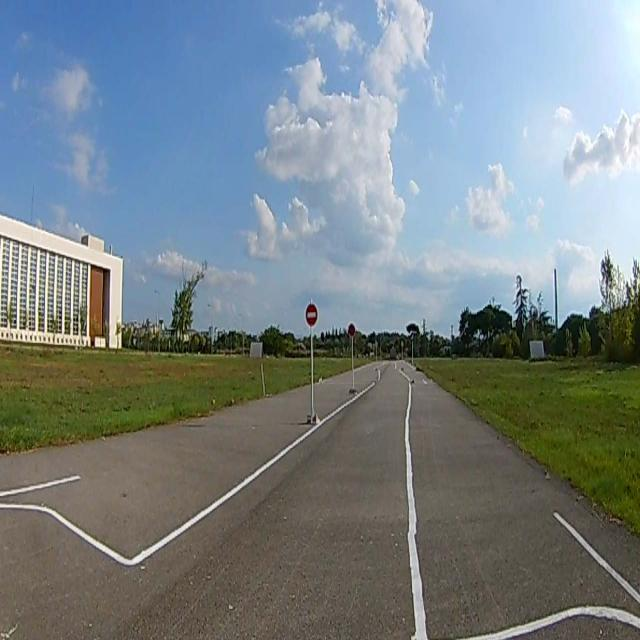girisyok: (307, 304, 317, 325)
